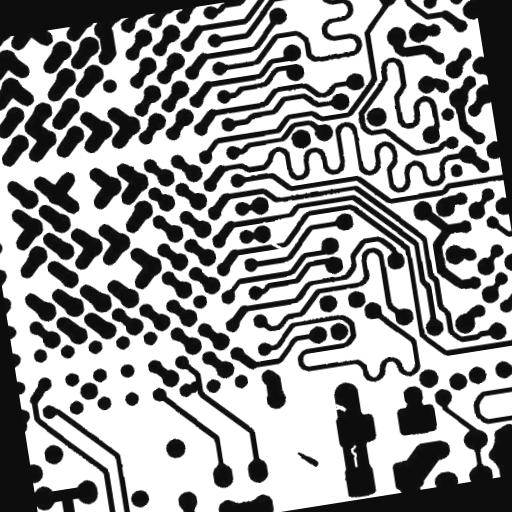copper: (288, 440, 327, 477)
mousebite: (323, 394, 354, 422)
open: (262, 231, 292, 260)
pin-hole: (340, 436, 368, 476)
short: (178, 370, 210, 402)
